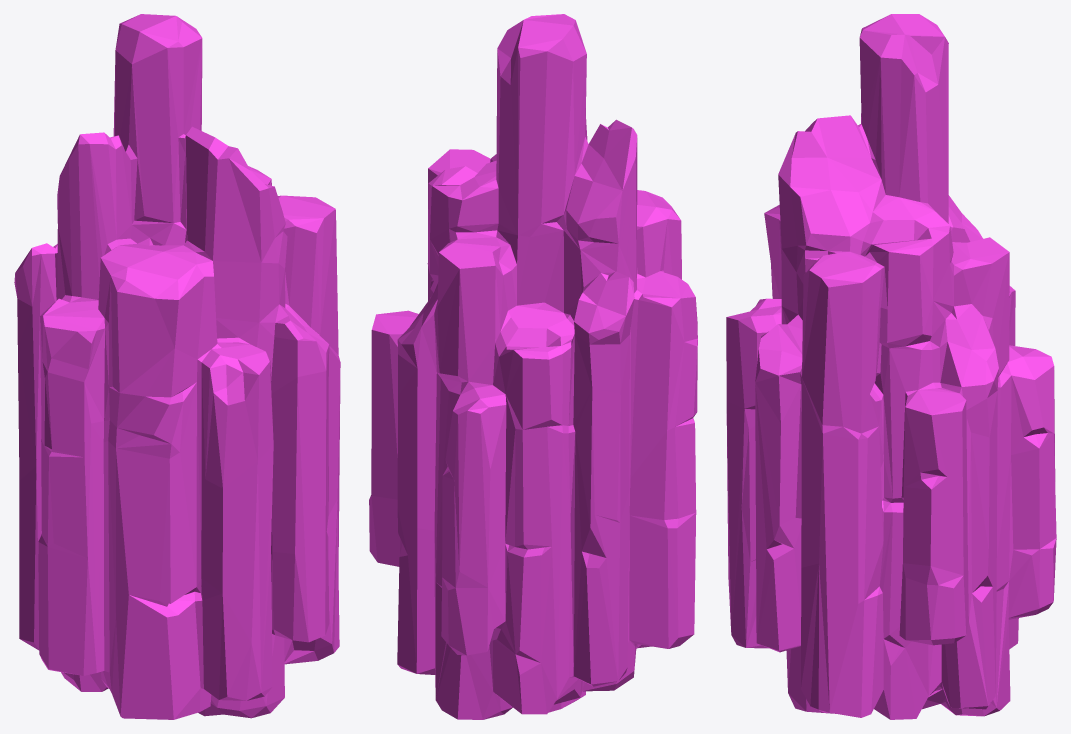
The model's file is SM_Rock_Bazalt_B_Fantasy.fbx.
3 renders of one model, left to right at view 1: azimuth 30°, elevation 25°; view 2: azimuth 150°, elevation 25°; view 3: azimuth 270°, elevation 25°, orthographic.
Parts seen in each view (by area): view 1: SM_Rock_Bazalt_B_Fantasy; view 2: SM_Rock_Bazalt_B_Fantasy; view 3: SM_Rock_Bazalt_B_Fantasy.
Part boxes in pixels (x1=…): SM_Rock_Bazalt_B_Fantasy: x1=14, y1=14, x2=340, y2=719; SM_Rock_Bazalt_B_Fantasy: x1=369, y1=14, x2=697, y2=719; SM_Rock_Bazalt_B_Fantasy: x1=726, y1=14, x2=1056, y2=719.
Size of the model in its own units: 2.18 by 4.92 by 2.19.
